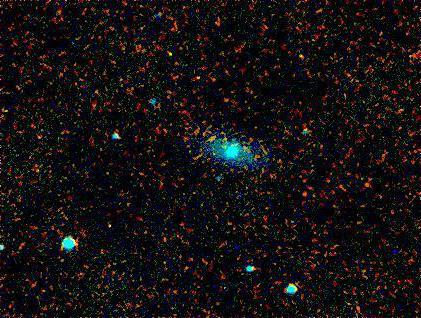star: (196, 123, 226, 153)
